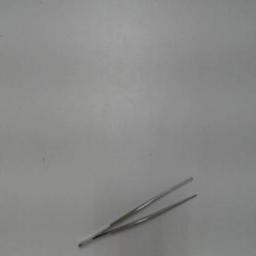Gillies Toothed Dissector: (69, 170, 201, 252)
